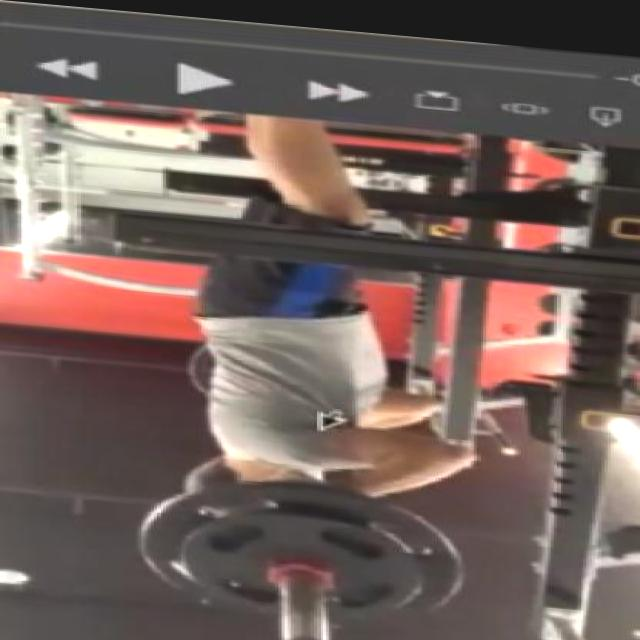barbell: (114, 458, 480, 640)
